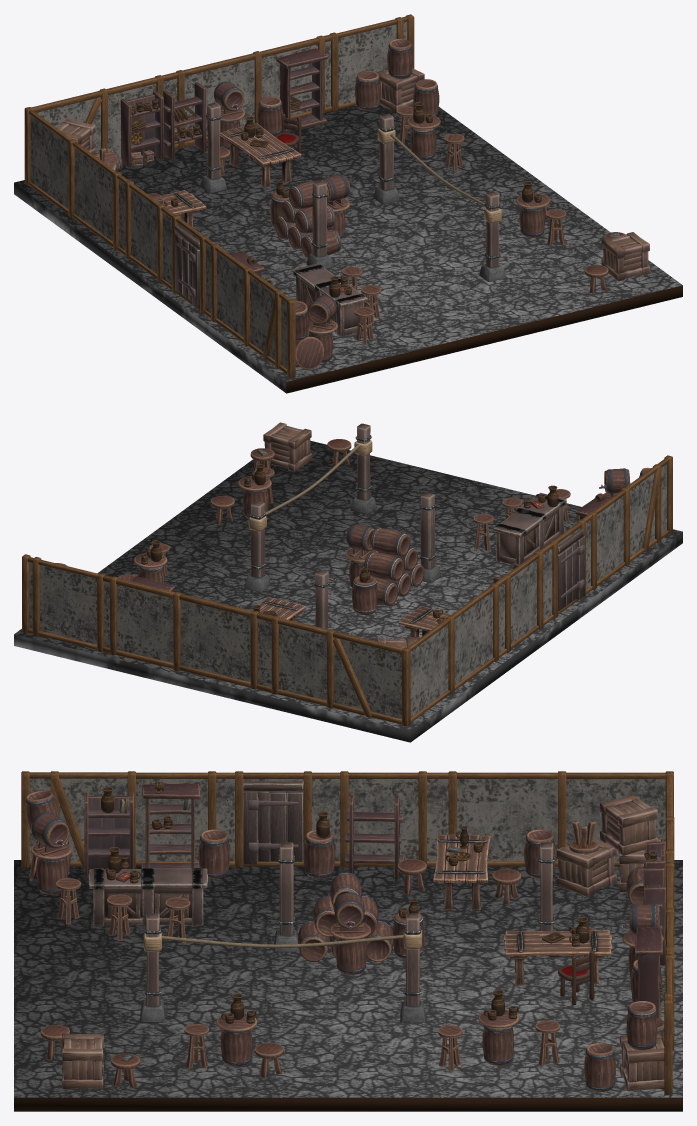
The model's file is taverna-opt.glb.
3 renders of one model, top to bottom at view 1: azimuth 30°, elevation 25°; view 2: azimuth 150°, elevation 25°; view 3: azimuth 270°, elevation 25°, orthographic. The views are drawn at different scales.
Parts seen in each view (by area): view 1: PlaneLowLow004_Material.001_0; view 2: PlaneLowLow004_Material.001_0; view 3: PlaneLowLow004_Material.001_0.
Part boxes in pixels (left/top/right/bottom): PlaneLowLow004_Material.001_0: left=14, top=14, right=682, bottom=393; PlaneLowLow004_Material.001_0: left=14, top=422, right=682, bottom=742; PlaneLowLow004_Material.001_0: left=14, top=771, right=682, bottom=1111.
Size of the model in its own units: 10.86 by 2.46 by 12.93.
14 materials, 13 textured.
